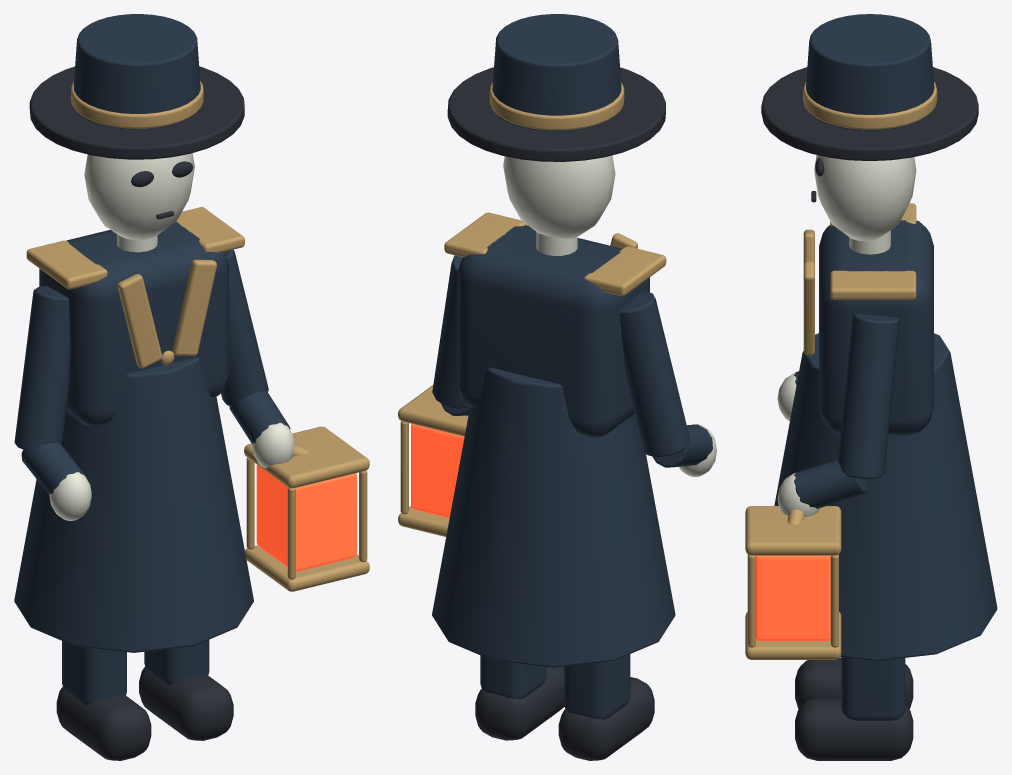
The model's file is conductor.glb.
3 views of the same model, side by side, from view 1: azimuth 30°, elevation 25°; view 2: azimuth 150°, elevation 25°; view 3: azimuth 270°, elevation 25° (orthographic).
Visible parts, largest first — view 1: conductor; view 2: conductor; view 3: conductor.
Boxes of the visible parts, x1,y1,x2,y2 form: conductor: (14,14,369,760); conductor: (398,14,716,760); conductor: (745,14,997,760).
Size of the model in its own units: 1.08 by 2.4 by 0.7885.
